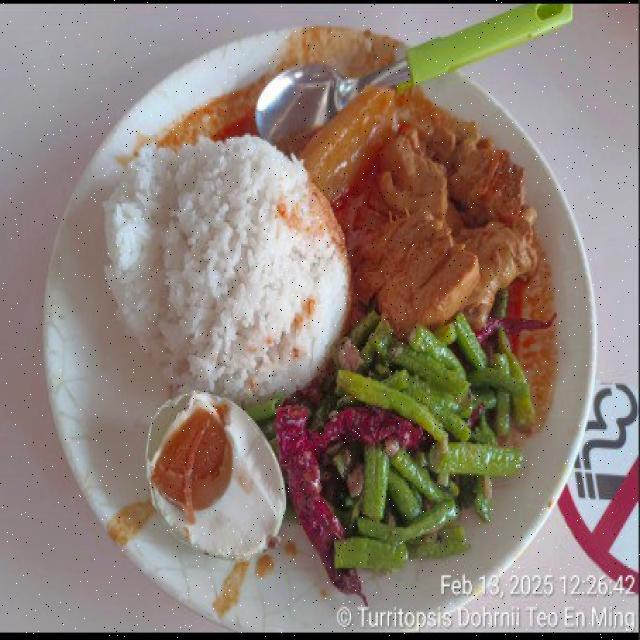Chicken: (357, 128, 536, 335)
Egg: (147, 392, 285, 559)
Green veg: (309, 311, 533, 568), (300, 87, 398, 202)
Potato: (300, 89, 399, 202)
Rice: (104, 137, 348, 401)
